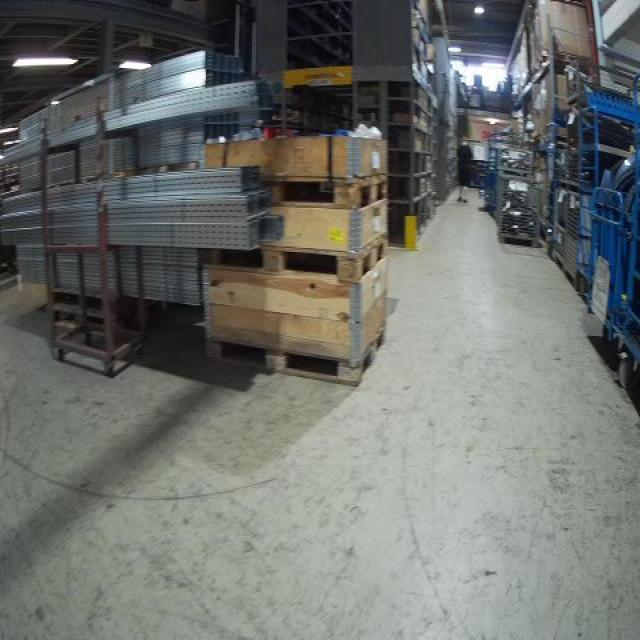pallet: (205, 323, 387, 389), (199, 229, 389, 286), (260, 170, 388, 213)
stillage: (550, 184, 588, 286), (497, 172, 541, 245), (551, 143, 590, 194)
